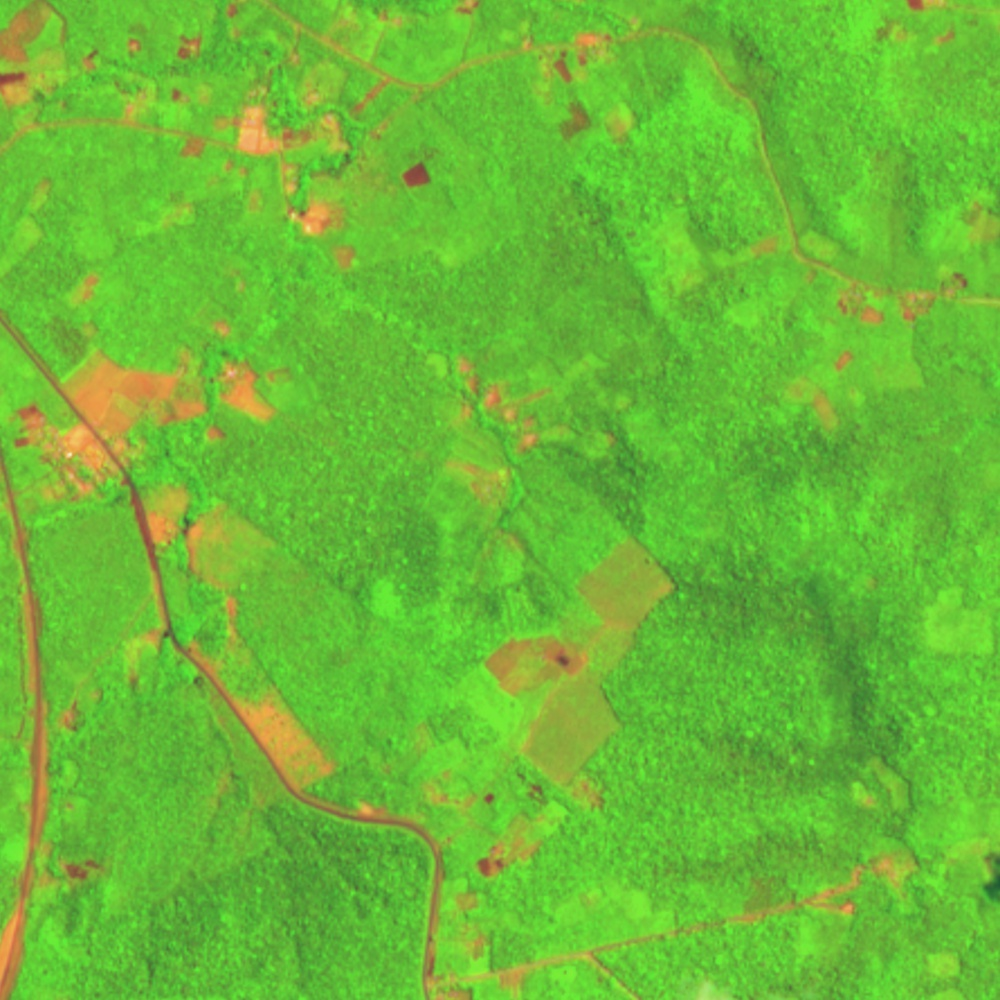legal: (481, 529, 679, 777), (425, 767, 593, 881), (844, 265, 972, 329), (505, 27, 618, 86), (880, 1, 970, 41), (396, 156, 437, 195)
